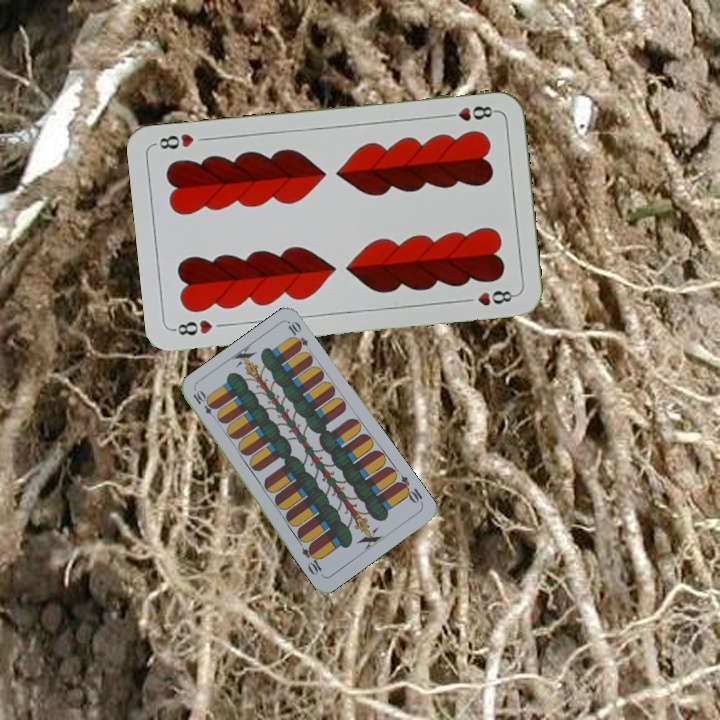E10: (392, 472, 425, 507), (189, 387, 221, 423)
H8: (439, 102, 498, 124), (170, 315, 215, 338)
